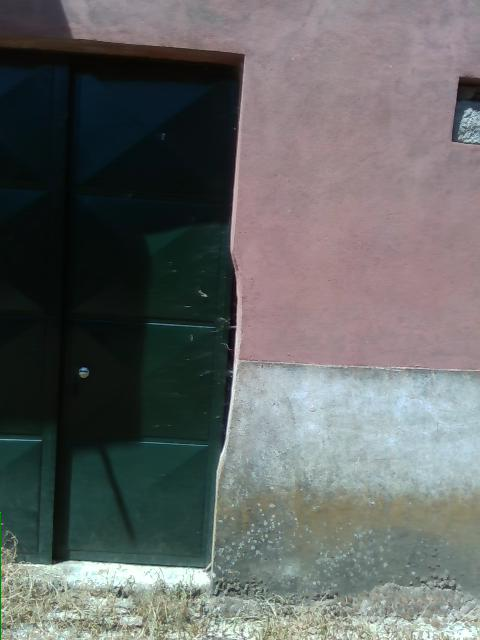door: (0, 40, 242, 581)
